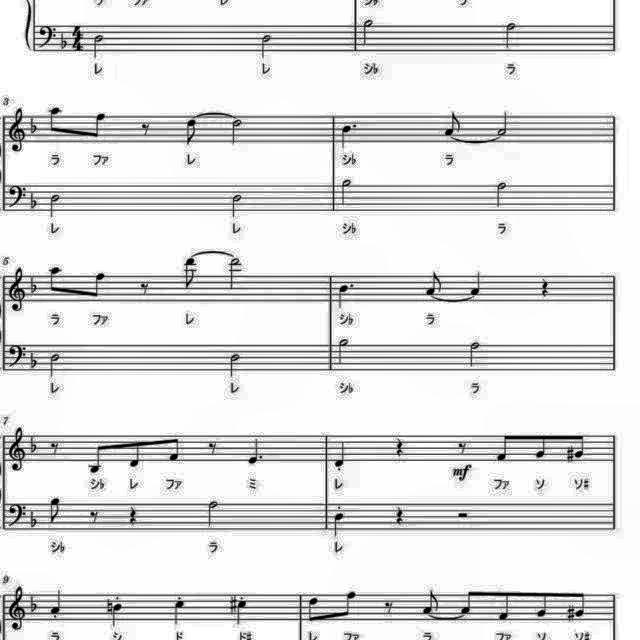Bass-clef: (4, 501, 28, 532), (4, 340, 28, 370), (4, 182, 28, 212), (34, 22, 58, 50)
Bemol: (24, 112, 40, 136), (28, 271, 44, 293), (27, 187, 41, 209), (28, 432, 40, 456), (28, 590, 40, 614), (28, 348, 40, 369), (58, 30, 70, 50), (28, 510, 40, 530)
Eighth-note: (86, 439, 110, 477), (338, 588, 362, 624), (84, 110, 108, 144), (84, 268, 108, 302), (492, 428, 514, 464), (47, 261, 69, 297), (47, 104, 69, 138), (418, 586, 442, 616), (126, 436, 146, 472), (494, 586, 514, 622), (180, 256, 200, 292), (161, 432, 183, 464), (422, 270, 446, 298), (442, 110, 466, 138), (181, 117, 201, 149), (534, 430, 554, 462), (535, 586, 555, 618), (46, 496, 66, 526), (459, 584, 477, 616), (305, 592, 323, 624), (572, 430, 588, 462), (574, 589, 590, 621)
Eighth-rest: (136, 116, 156, 140), (137, 278, 155, 300), (203, 440, 220, 460), (379, 598, 396, 618), (88, 508, 104, 528), (46, 440, 62, 460), (456, 440, 470, 460)
Half-note: (224, 256, 244, 294), (338, 174, 358, 210), (358, 16, 378, 50), (334, 336, 354, 369), (502, 19, 522, 51), (228, 116, 248, 148), (464, 338, 484, 370), (492, 180, 511, 213), (226, 191, 246, 221), (258, 33, 278, 63), (224, 348, 243, 379), (204, 498, 222, 530), (45, 189, 63, 219), (90, 31, 108, 60), (493, 110, 511, 138), (46, 350, 62, 380)
Half-rest: (453, 508, 472, 524)
Quarter-dot: (334, 280, 358, 312), (242, 434, 264, 466), (338, 120, 360, 152)
Quarter-note: (332, 437, 352, 469), (170, 594, 190, 626), (47, 587, 65, 619), (465, 270, 485, 298), (110, 596, 126, 628), (233, 598, 251, 626), (332, 511, 348, 539)
Quarter-rest: (536, 274, 552, 300), (392, 502, 408, 528), (391, 436, 407, 460), (126, 504, 142, 528)
Treble-clef: (5, 264, 29, 316), (5, 106, 29, 158), (5, 425, 27, 475), (6, 583, 27, 633)
